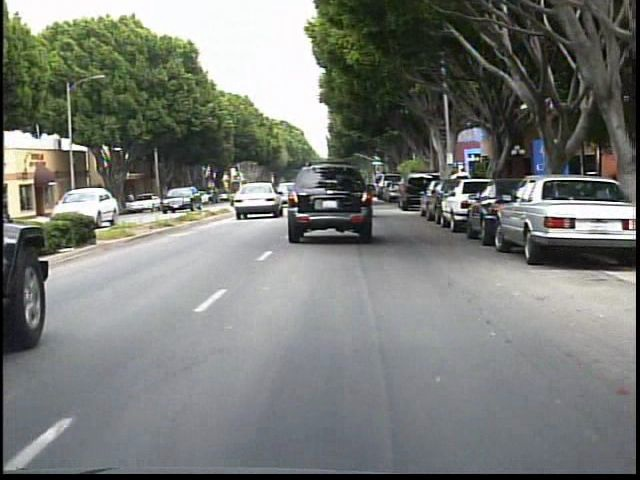person: (455, 168, 472, 204), (445, 167, 460, 204), (120, 188, 139, 214)
